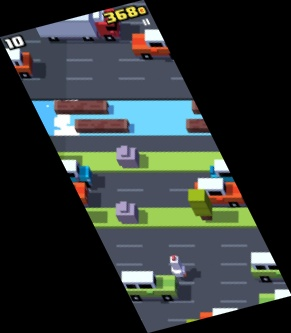car: (120, 269, 179, 302), (194, 177, 252, 210), (130, 29, 189, 60), (199, 307, 251, 333), (250, 251, 291, 283), (39, 181, 89, 207), (54, 158, 93, 189), (209, 157, 246, 185), (1, 46, 32, 79), (259, 287, 291, 314)
duck: (168, 253, 188, 279)
log: (55, 99, 109, 114), (75, 119, 129, 133), (186, 119, 231, 133), (190, 98, 225, 114)
rock: (115, 145, 141, 169), (116, 201, 139, 224)
tree: (186, 188, 214, 223)
truck: (35, 6, 121, 42)
water: (30, 100, 214, 135)
